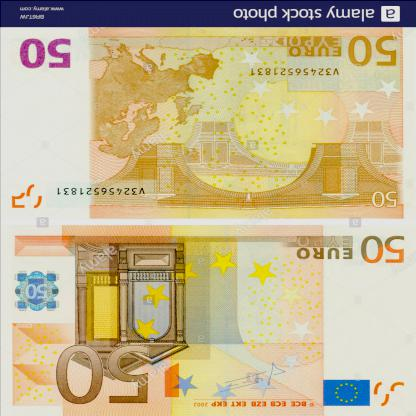euro_banknote: (1, 28, 416, 221), (1, 224, 416, 416)
